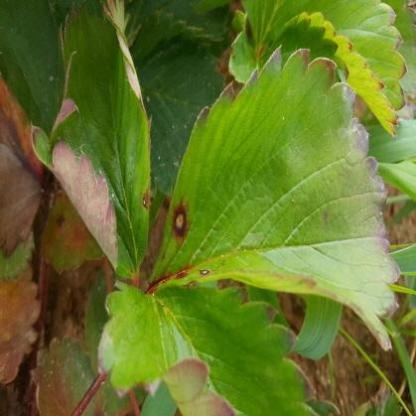Strawberry_Leaf_Spot: (140, 44, 402, 354), (29, 0, 153, 284)
